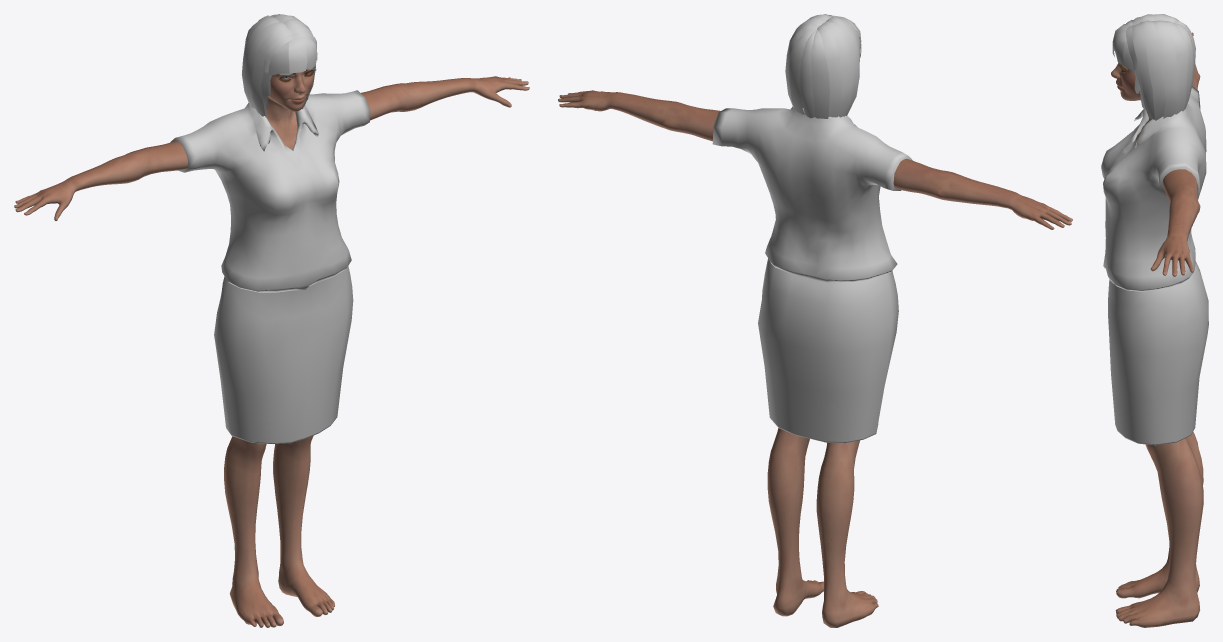
The model's file is player.obj.
The picture shows the model from 3 angles, left to right: view 1: azimuth 30°, elevation 25°; view 2: azimuth 150°, elevation 25°; view 3: azimuth 270°, elevation 25°; orthographic projection.
Parts seen in each view (by area): view 1: Tops, Body, Bottoms, Hair; view 2: Tops, Bottoms, Body, Hair; view 3: Bottoms, Tops, Body, Hair.
Part boxes in pixels (left/top/right/bottom): Tops: left=170, top=90, right=370, bottom=292; Body: left=14, top=68, right=529, bottom=627; Bottoms: left=214, top=266, right=353, bottom=443; Hair: left=242, top=14, right=317, bottom=117; Tops: left=712, top=106, right=912, bottom=282; Bottoms: left=758, top=258, right=898, bottom=442; Body: left=558, top=20, right=1072, bottom=627; Hair: left=785, top=14, right=861, bottom=118; Bottoms: left=1108, top=261, right=1208, bottom=445; Tops: left=1101, top=86, right=1206, bottom=291; Body: left=1111, top=32, right=1203, bottom=627; Hair: left=1112, top=14, right=1195, bottom=120.
Bounding box in the file's own units: 159 × 175 × 28.95.
